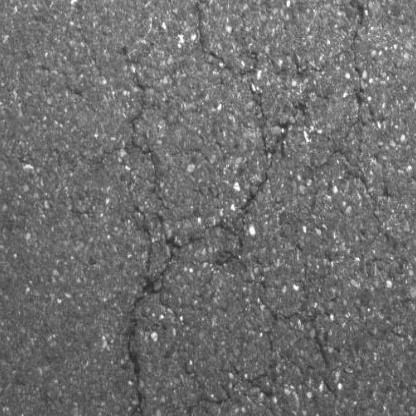Cracks: (117, 119, 295, 416), (190, 0, 269, 122), (124, 68, 160, 171), (346, 0, 376, 71), (178, 395, 231, 416), (291, 100, 310, 121)
